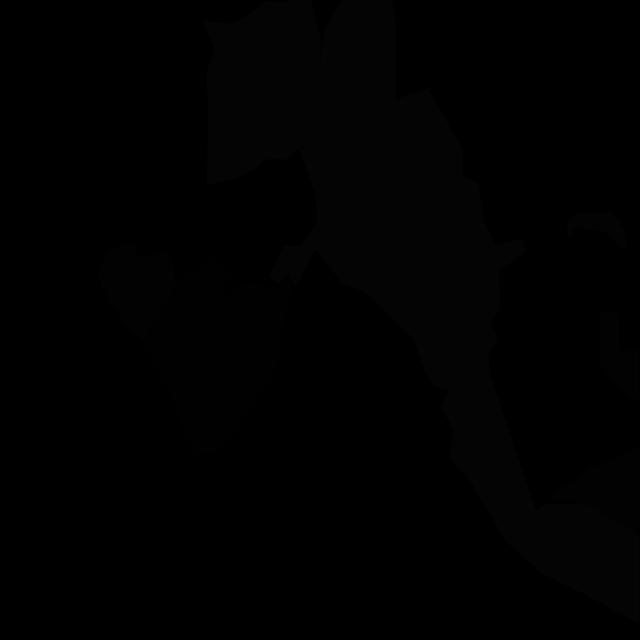cardboard: (548, 447, 640, 535), (96, 244, 176, 341), (600, 312, 640, 404)
metal: (567, 213, 626, 253)
rigid_plastic: (170, 273, 294, 456), (142, 257, 232, 394)
soft_plastic: (268, 0, 640, 624), (203, 0, 332, 185)
